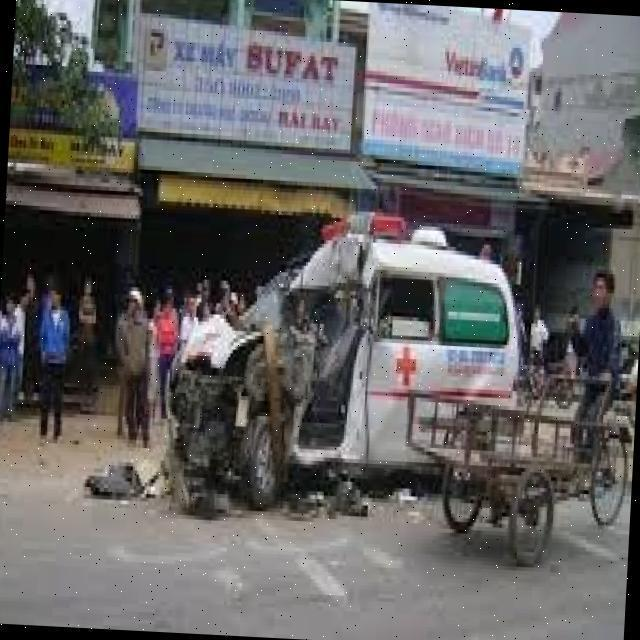accident: (122, 193, 394, 539)
